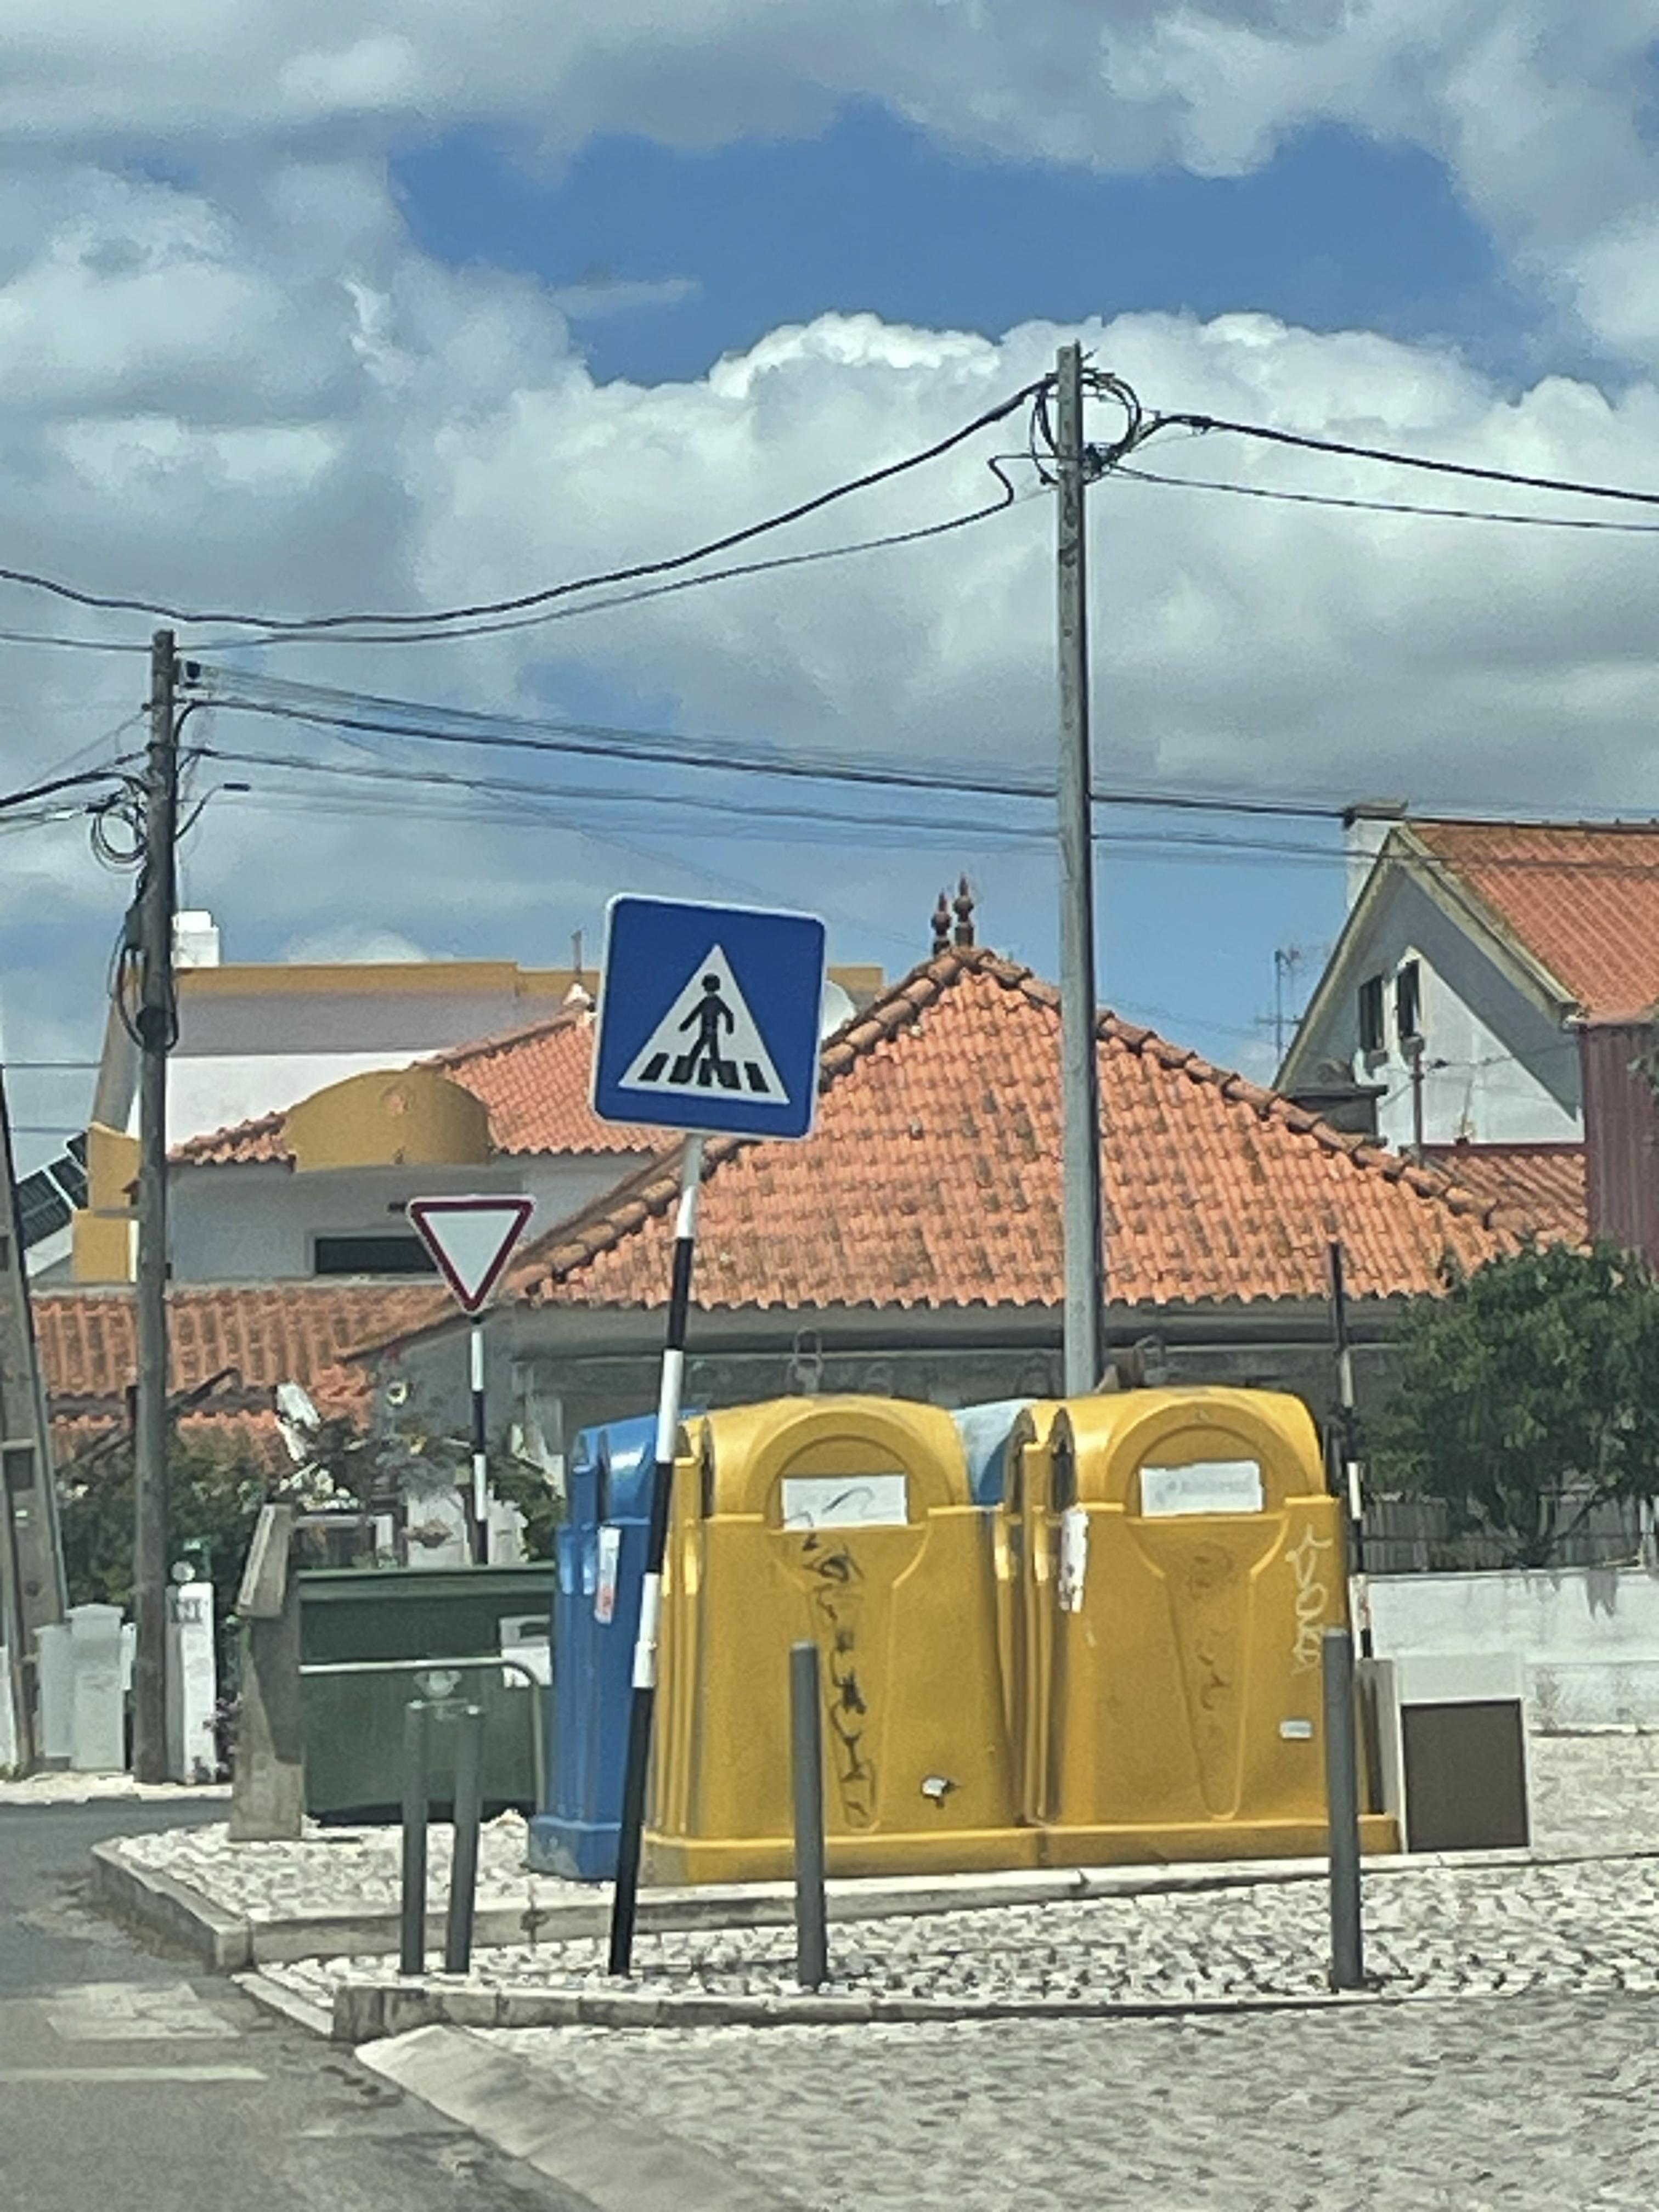Passagem para peoes: (587, 897, 835, 1158)
cedencia de passagem: (397, 1186, 544, 1320)
